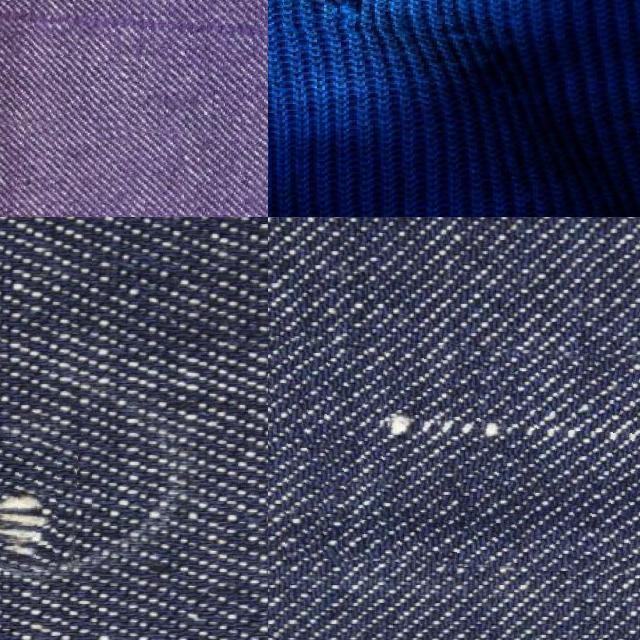other: (282, 0, 404, 36)
stains: (268, 339, 640, 574), (0, 442, 76, 570)
